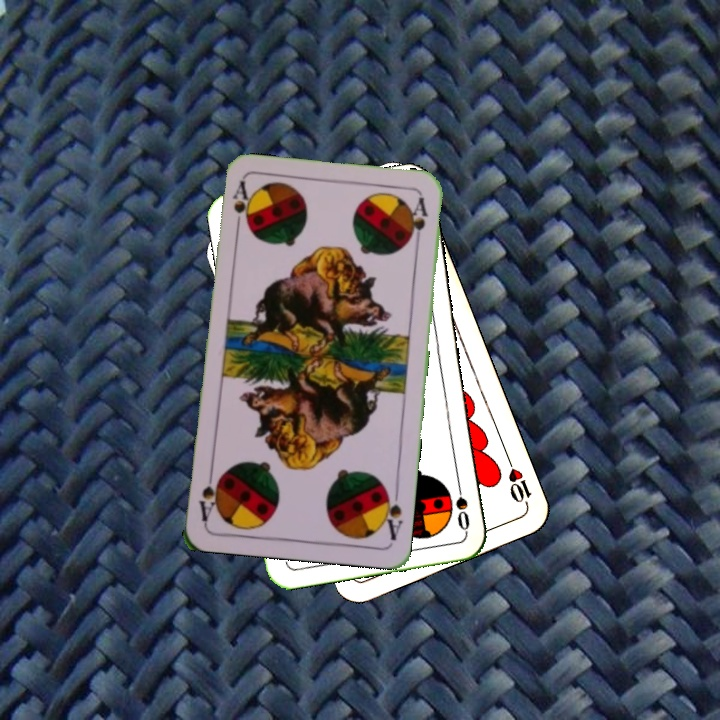H10: (503, 453, 534, 510)
SA: (377, 483, 405, 543), (229, 178, 249, 237)
SO: (451, 475, 473, 534)
